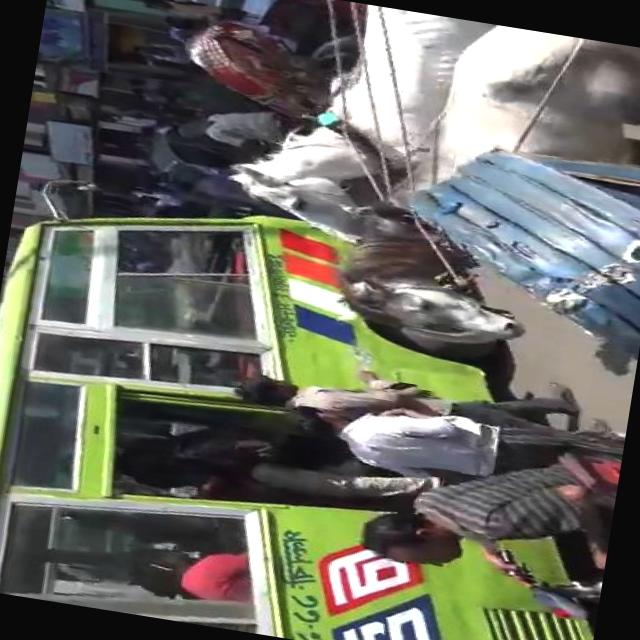bus: (0, 167, 640, 640)
motorcycle: (335, 114, 640, 635), (167, 5, 364, 166), (144, 119, 260, 198)
